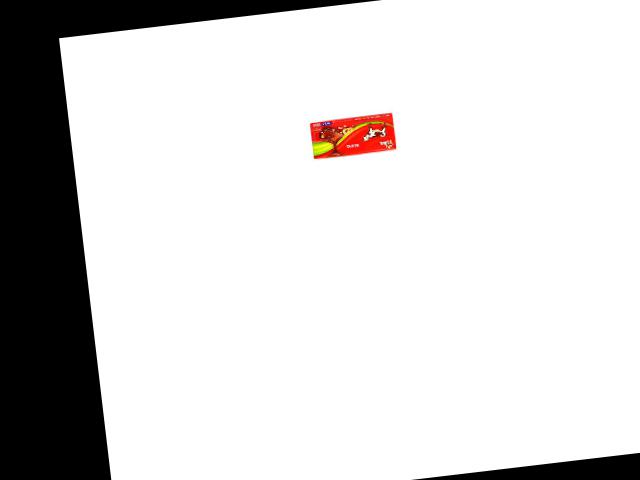chocolate: (307, 104, 402, 162)
